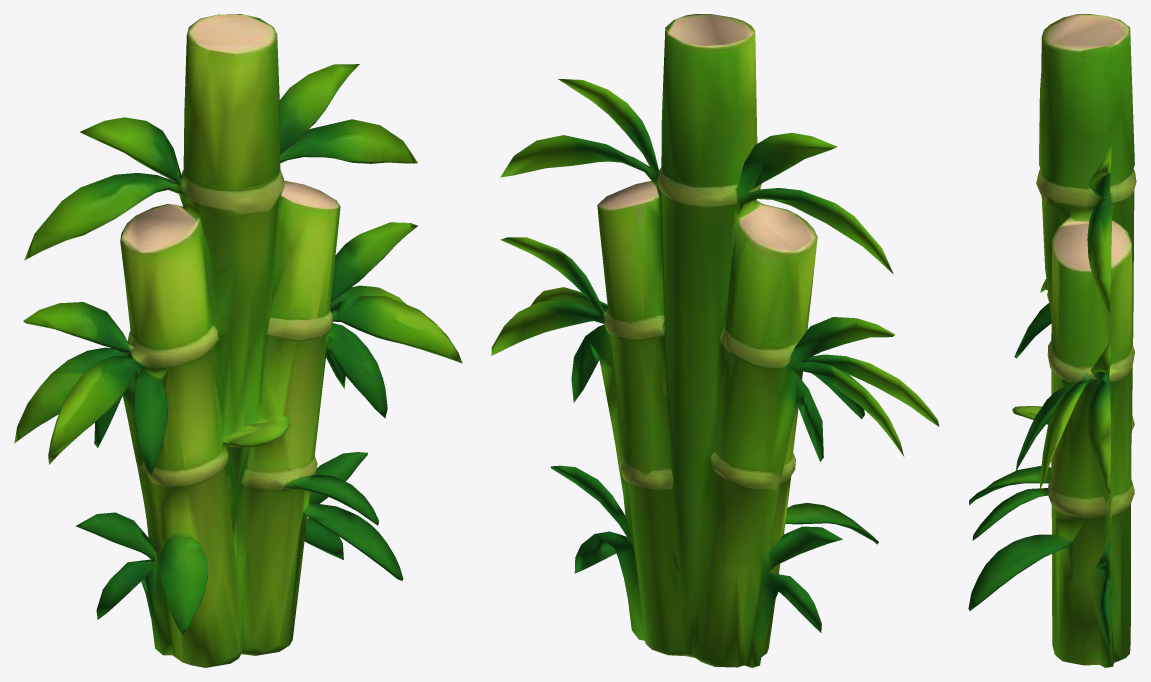
Rendered from bamboo.glb.
The picture shows the model from 3 angles, left to right: view 1: azimuth 30°, elevation 25°; view 2: azimuth 150°, elevation 25°; view 3: azimuth 270°, elevation 25°; orthographic projection.
Parts seen in each view (by area): view 1: model; view 2: model; view 3: model.
Boxes of the visible parts, <box> form: model: <box>14,14,462,667</box>; model: <box>491,14,939,667</box>; model: <box>968,14,1136,667</box>.
Size of the model in its own units: 1.34 by 1.91 by 0.4779.
Materials: 1 (1 with a texture image).
